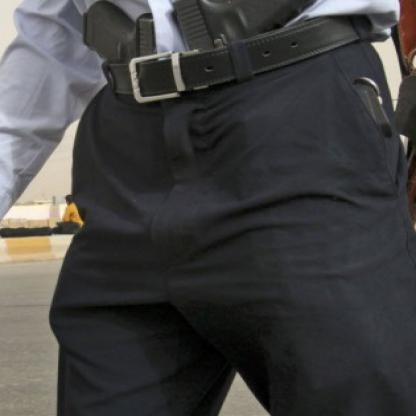gun: (155, 0, 328, 152), (78, 0, 174, 178), (392, 69, 415, 208)
